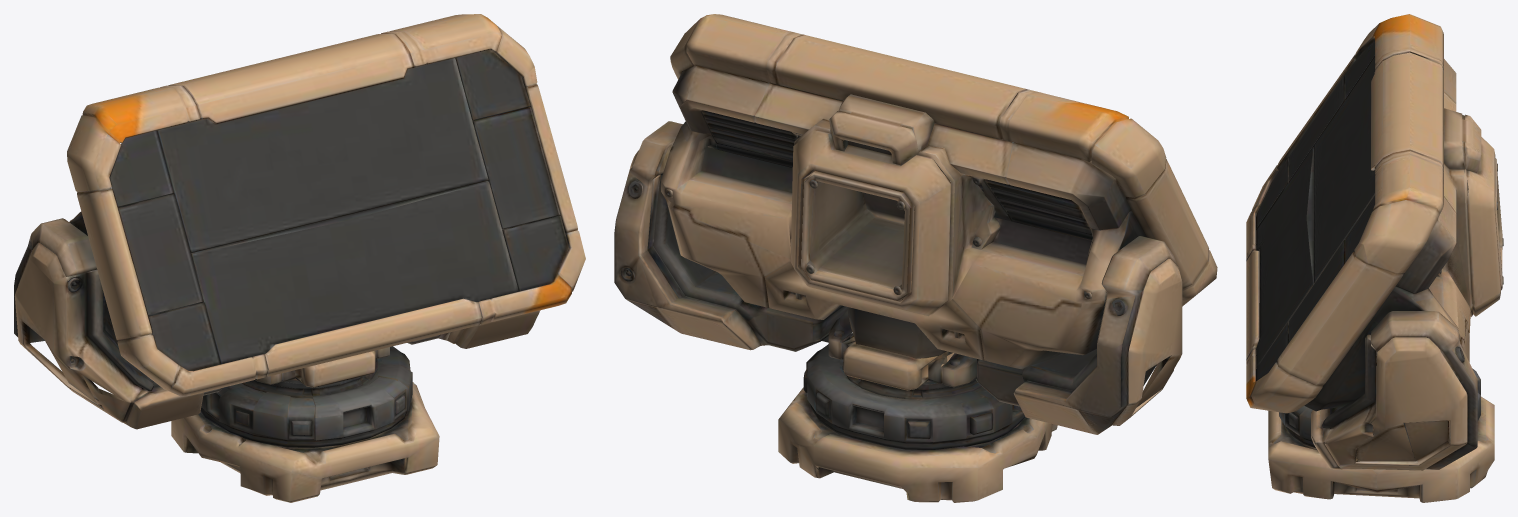
The model's file is 10_RAD_Planar_Radar.glb.
3 views of the same model, side by side, from view 1: azimuth 30°, elevation 25°; view 2: azimuth 150°, elevation 25°; view 3: azimuth 270°, elevation 25° (orthographic). The views are drawn at different scales.
Parts seen in each view (by area): view 1: 10_RAD_Planar_Radar; view 2: 10_RAD_Planar_Radar; view 3: 10_RAD_Planar_Radar.
Part boxes in pixels (bbox=[...]): 10_RAD_Planar_Radar: bbox=[14, 14, 585, 502]; 10_RAD_Planar_Radar: bbox=[614, 14, 1217, 502]; 10_RAD_Planar_Radar: bbox=[1246, 14, 1503, 502].
Size of the model in its own units: 0.9995 by 0.7319 by 0.4712.
Materials: 1 (1 with a texture image).
